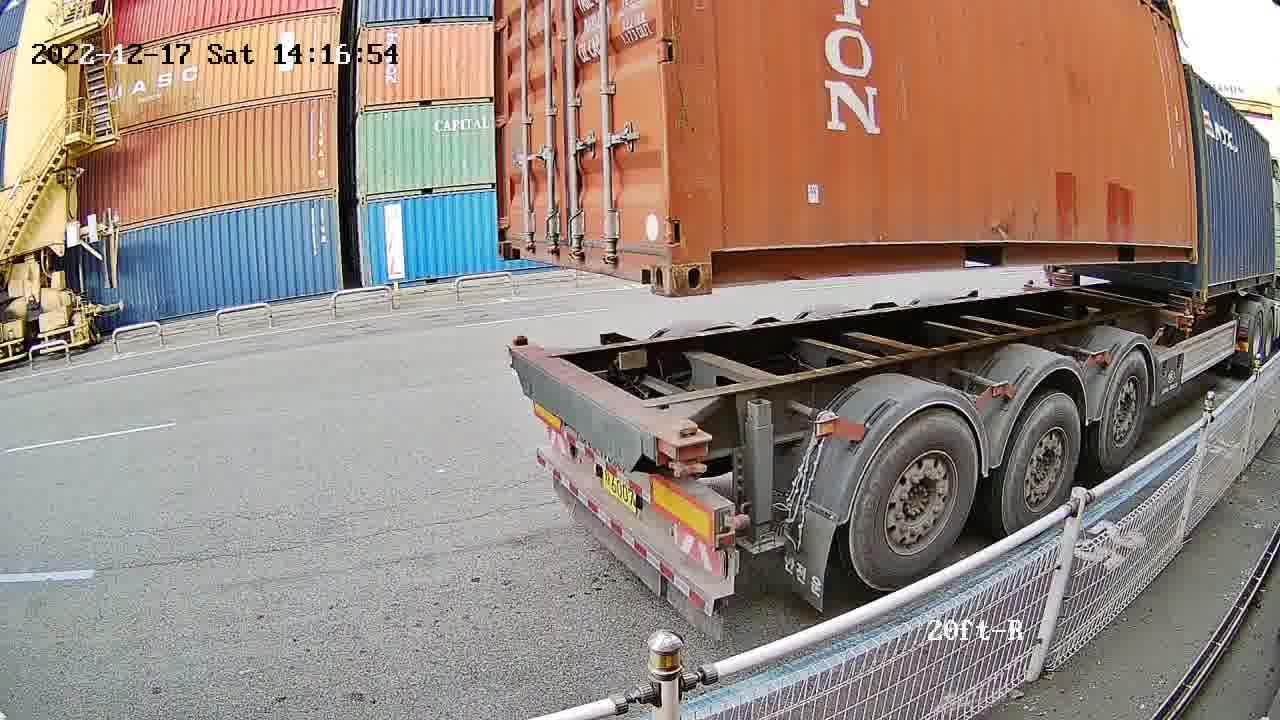Chassis: (507, 347, 658, 471)
Cone: (657, 416, 710, 475), (507, 332, 533, 369)
Hole_L: (670, 218, 745, 296), (497, 216, 528, 263)
Hole_R: (618, 219, 670, 296)
Tire: (848, 413, 979, 592), (1001, 397, 1081, 528), (1100, 356, 1148, 467)
